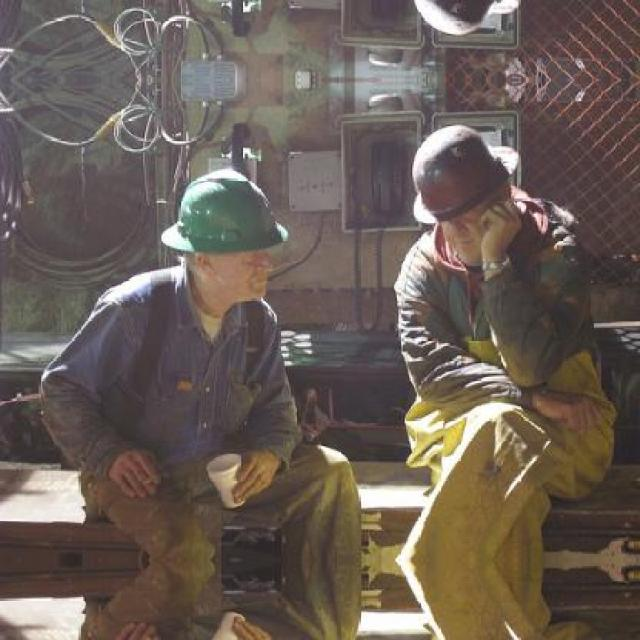helmet: (156, 156, 302, 309), (397, 116, 523, 259), (397, 0, 525, 45)
